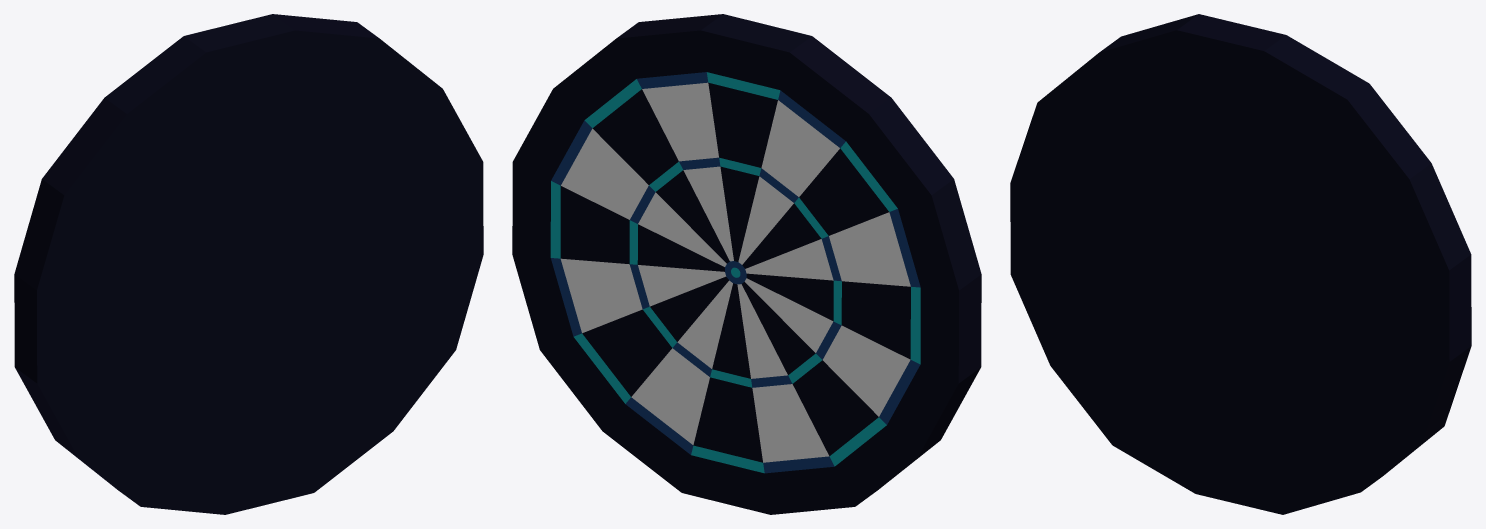
The model's file is Wall_Dartboard.fbx.
The picture shows the model from 3 angles, left to right: view 1: azimuth 30°, elevation 25°; view 2: azimuth 150°, elevation 25°; view 3: azimuth 330°, elevation 25°; orthographic projection.
Parts seen in each view (by area): view 1: Rug.004; view 2: Rug.004; view 3: Rug.004.
Boxes of the visible parts, bbox=[...] form: Rug.004: bbox=[14, 14, 483, 514]; Rug.004: bbox=[512, 14, 981, 514]; Rug.004: bbox=[1010, 14, 1471, 514].
Bounding box in the file's own units: 56.18 × 56.18 × 4.9.
